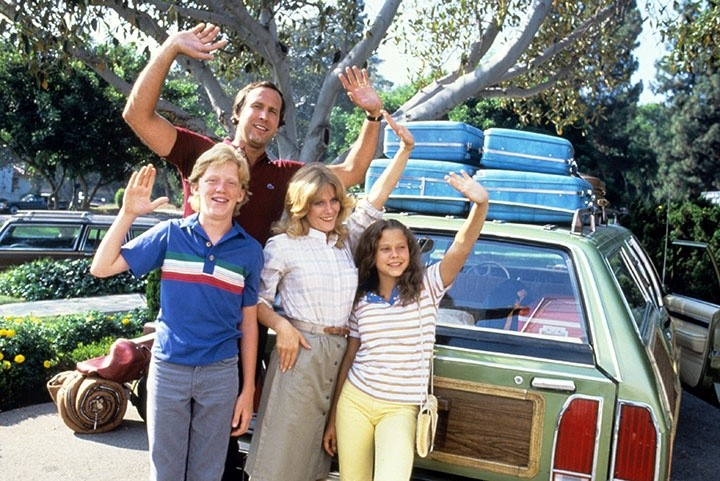face_no_mask: (187, 143, 253, 216), (282, 160, 347, 234), (356, 217, 420, 278), (232, 80, 284, 147)
